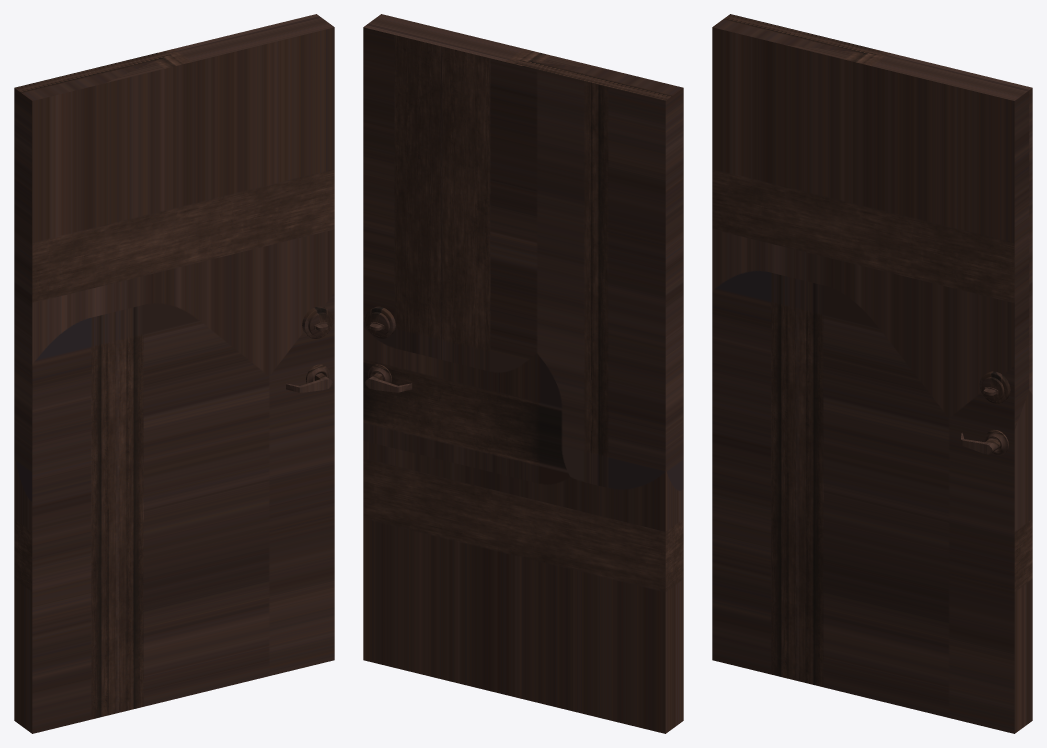
The model's file is puerta.fbx.
3 renders of one model, left to right at view 1: azimuth 30°, elevation 25°; view 2: azimuth 150°, elevation 25°; view 3: azimuth 330°, elevation 25°, orthographic.
Visible parts, largest first — view 1: Puerta:Puerta; view 2: Puerta:Puerta; view 3: Puerta:Puerta.
Boxes of the visible parts, box(x1,y1,x2,y2) form: Puerta:Puerta: box(14, 14, 334, 733); Puerta:Puerta: box(363, 14, 683, 733); Puerta:Puerta: box(712, 14, 1032, 733).
Size of the model in its own units: 115 by 230 by 25.19.
